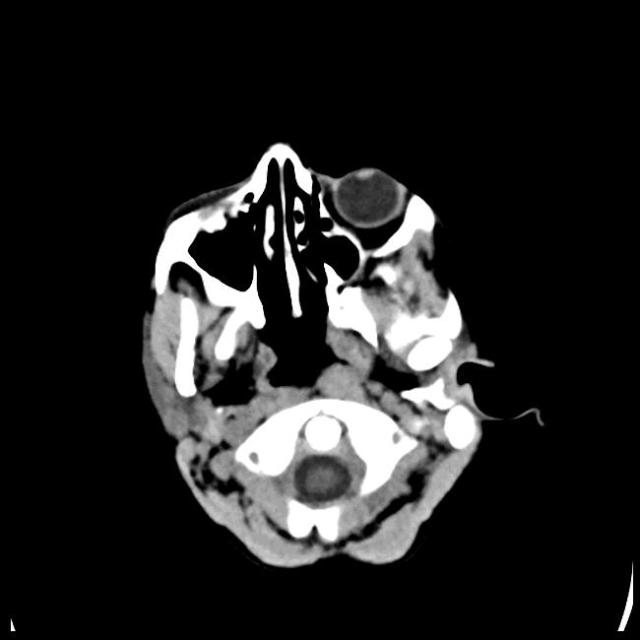lesion: (136, 139, 541, 572)
